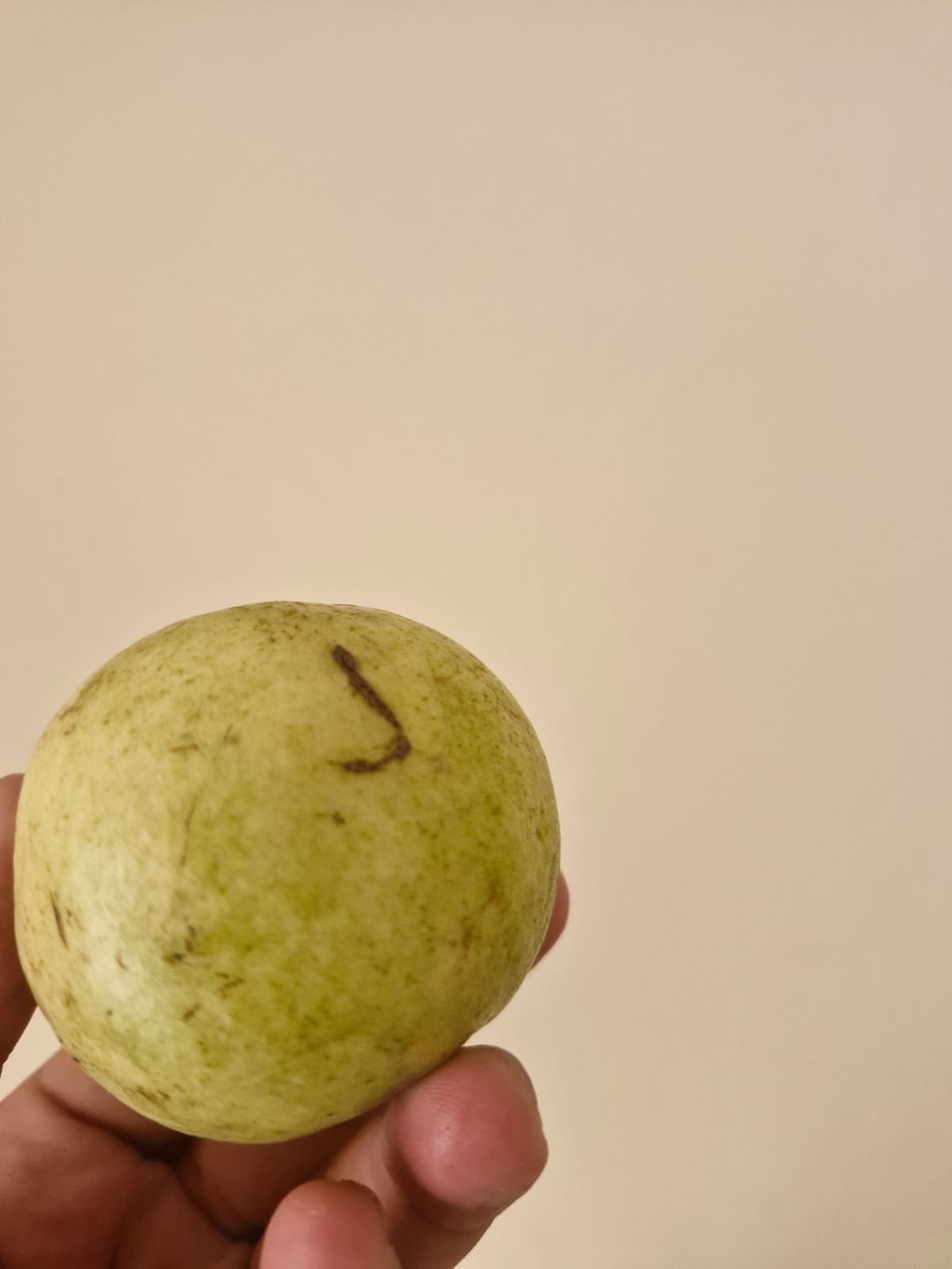guava: (146, 73, 794, 1138)
